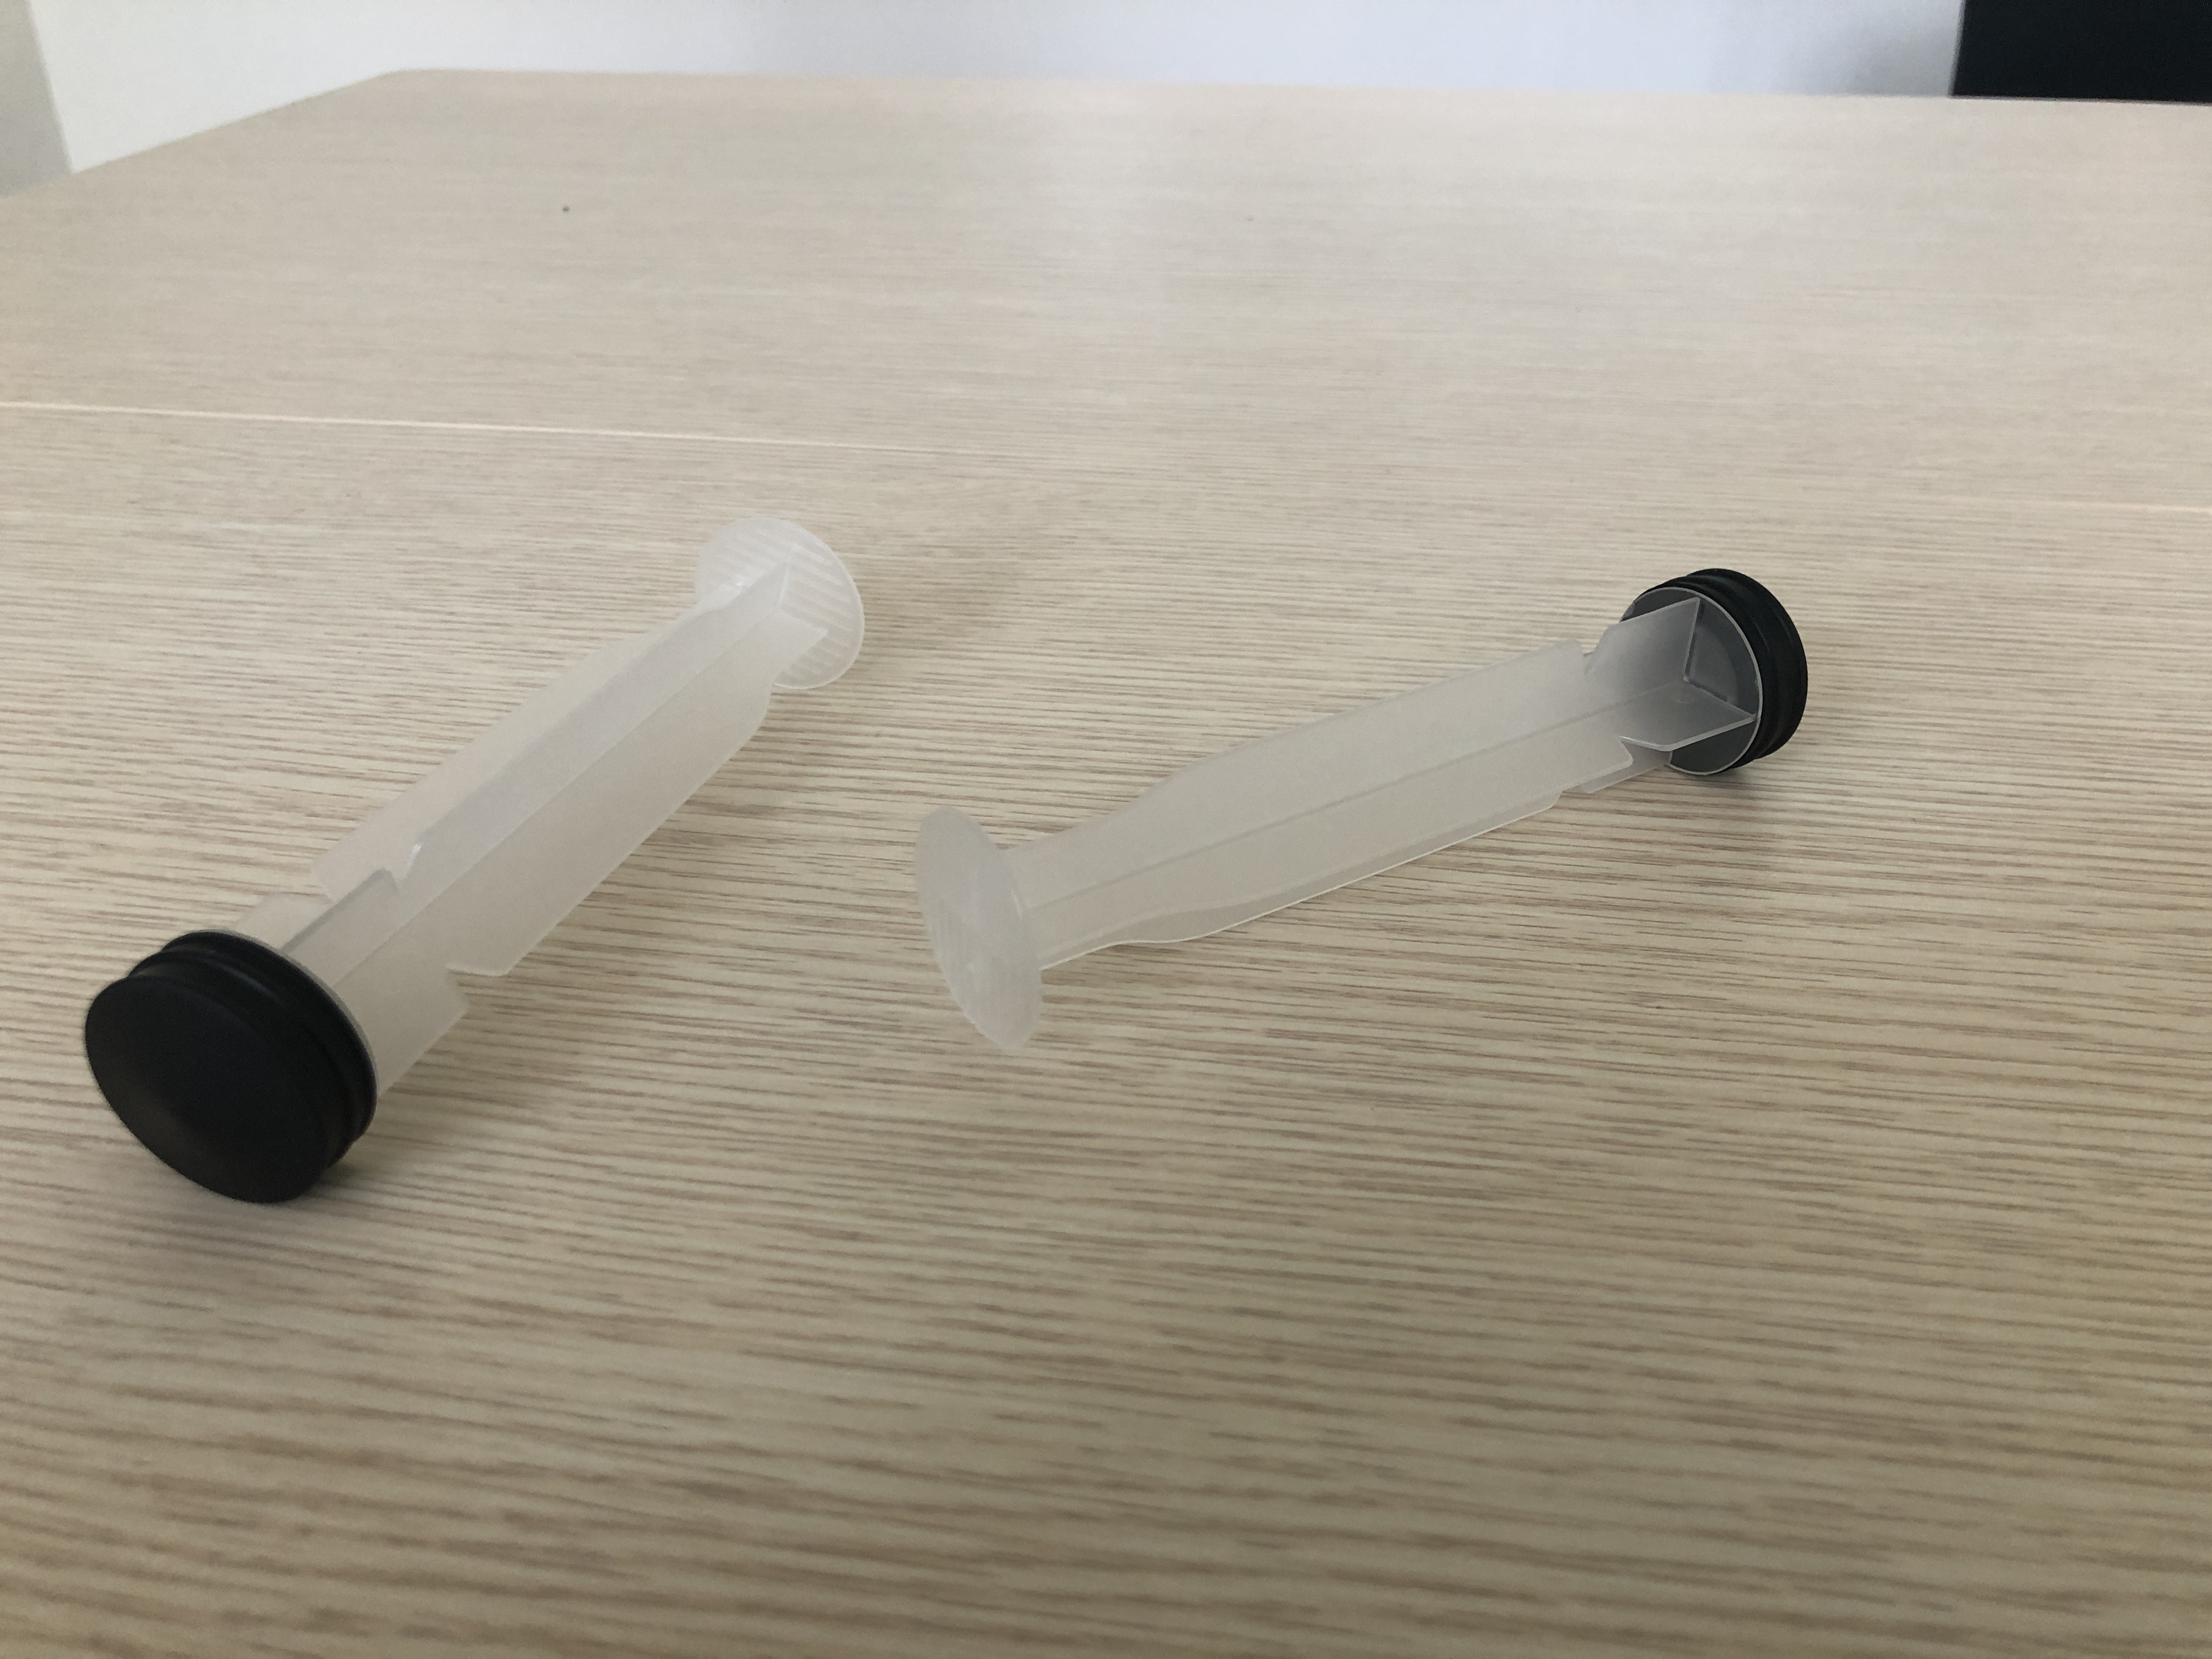plunger: (82, 507, 867, 1213), (906, 563, 1818, 1061)
